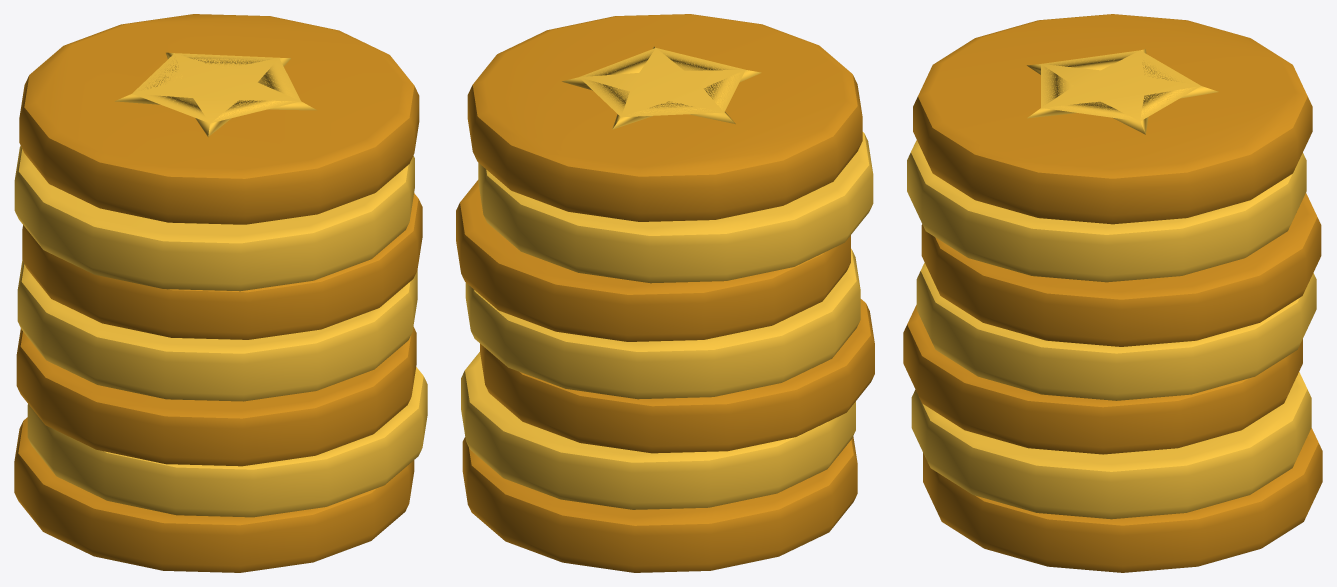
File: CoinStack.fbx
3 views of the same model, side by side, from view 1: azimuth 30°, elevation 25°; view 2: azimuth 150°, elevation 25°; view 3: azimuth 270°, elevation 25° (orthographic).
Visible parts, largest first — view 1: CoinStack; view 2: CoinStack; view 3: CoinStack.
Boxes of the visible parts, x1,y1,x2,y2 form: CoinStack: [14, 14, 427, 572]; CoinStack: [456, 14, 874, 572]; CoinStack: [903, 14, 1322, 572].
Size of the model in its own units: 1.25 by 1.35 by 1.26.
1 material, 1 textured.
